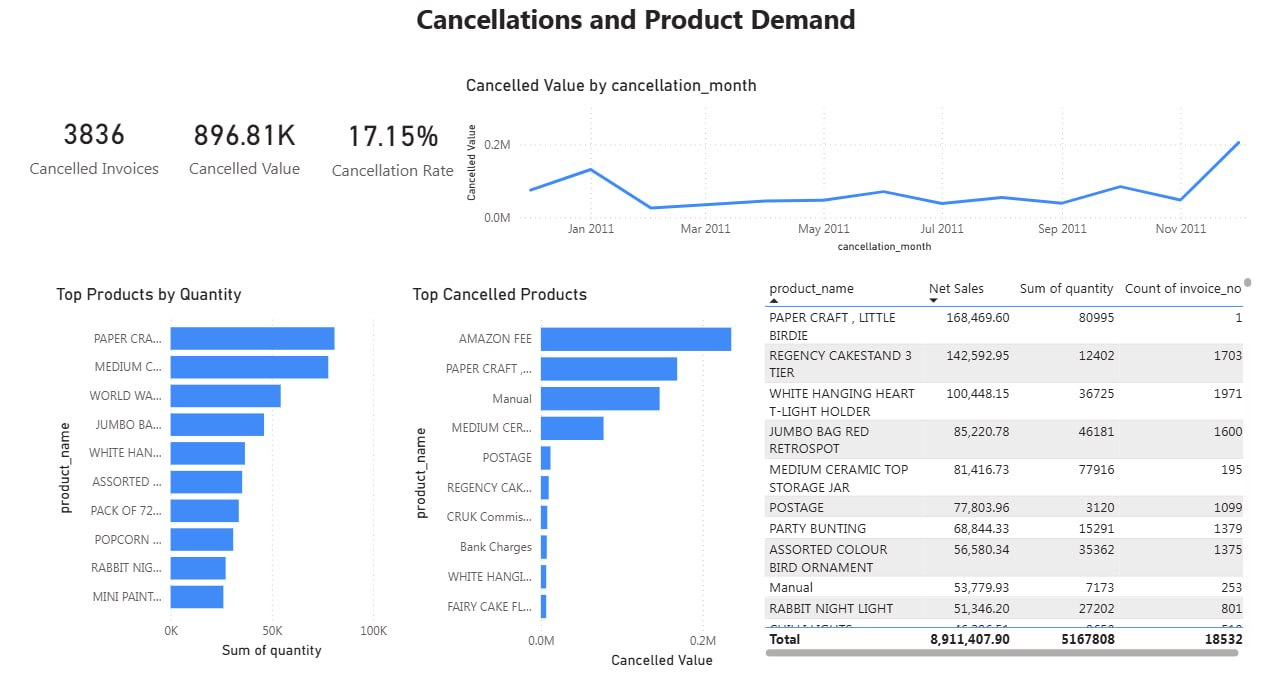

This screenshot's page, from the dashboard's own definition file:
{"tool":"powerbi","page":{"name":"Cancellations","canvas":[1280,720],"ordinal":2},"visuals":[{"type":"textbox","box":[0,0,1280,58],"z":0},{"type":"card","title":"Cancelled Invoices","fields":{"Values":["_Measures.Cancelled Invoices"]},"box":[150,56.7,240,95],"z":1000},{"type":"card","title":"Cancelled Value","fields":{"Values":["_Measures.Cancelled Value"]},"box":[480,58.3,240,93.3],"z":2000},{"type":"card","title":"Cancellation Rate","fields":{"Values":["_Measures.Cancellation Rate"]},"box":[801.7,56.7,240,95],"z":3000},{"type":"lineChart","fields":{"Category":["DateTable.Year Month"],"Y":["_Measures.Cancelled Value"]},"box":[613.3,191.7,520,310],"z":4000},{"type":"clusteredBarChart","title":"Top 10 Cancelled Items - mostly fees, not returns","fields":{"Category":["public vw_cancellations.product_name"],"Y":["_Measures.Cancelled Value"]},"box":[0,191.7,600,310],"z":5000},{"type":"clusteredBarChart","title":"Only 35% of \"cancellations\" are a customer returning anything","fields":{"Category":["public vw_cancellations.Cancellation Type"],"Y":["_Measures.Cancelled Value"]},"box":[0,512,574,208],"z":6000},{"type":"clusteredBarChart","title":"Top 5 Products by Units Sold","fields":{"Category":["public vw_valid_sales.product_name"],"Y":["Sum(public vw_valid_sales.quantity)"]},"box":[620,511.7,506.7,208.3],"z":7000}]}

Visuals, with their boxes in screenshot pixels (x1, y1, x2, y2), scaled from the page's 1280x720 canvas onto the 1265x695 screenshot:
textbox: locate(0, 0, 1264, 56)
"Cancelled Invoices" card: locate(148, 55, 385, 146)
"Cancelled Value" card: locate(474, 56, 712, 146)
"Cancellation Rate" card: locate(792, 55, 1029, 146)
lineChart - DateTable.Year Month x _Measures.Cancelled Value: locate(606, 185, 1120, 484)
"Top 10 Cancelled Items - mostly fees, not returns" clusteredBarChart: locate(0, 185, 593, 484)
"Only 35% of "cancellations" are a customer returning anything" clusteredBarChart: locate(0, 494, 567, 694)
"Top 5 Products by Units Sold" clusteredBarChart: locate(613, 494, 1113, 694)
